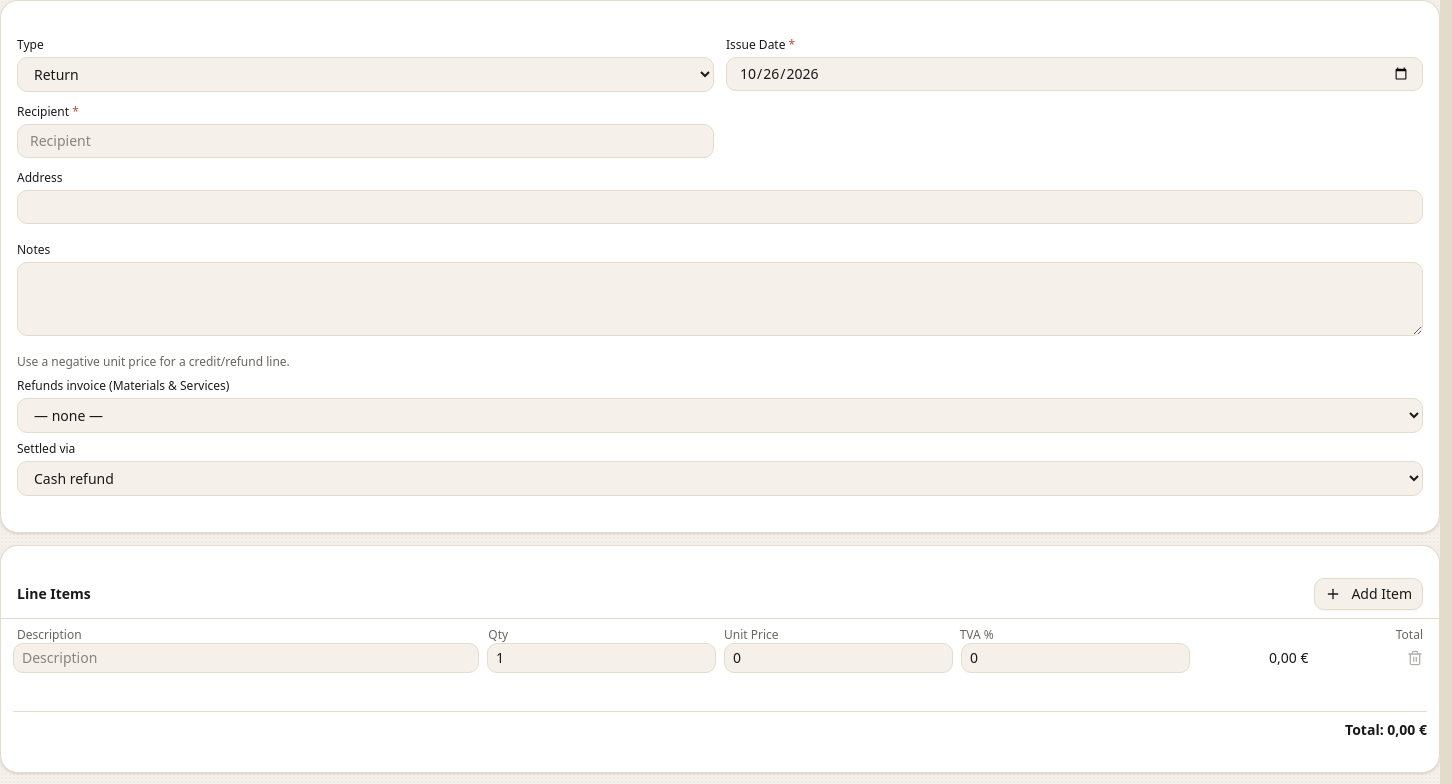
it: InvoiceForm — settled via / applied-to-invoice picker visibility › reveals the applied-to picker when avoir is selected
Select "Avoir (supplier credit)" in the dropdown with test id "settled-via-select": {"x": 720, "y": 478} [17,461,1423,496]
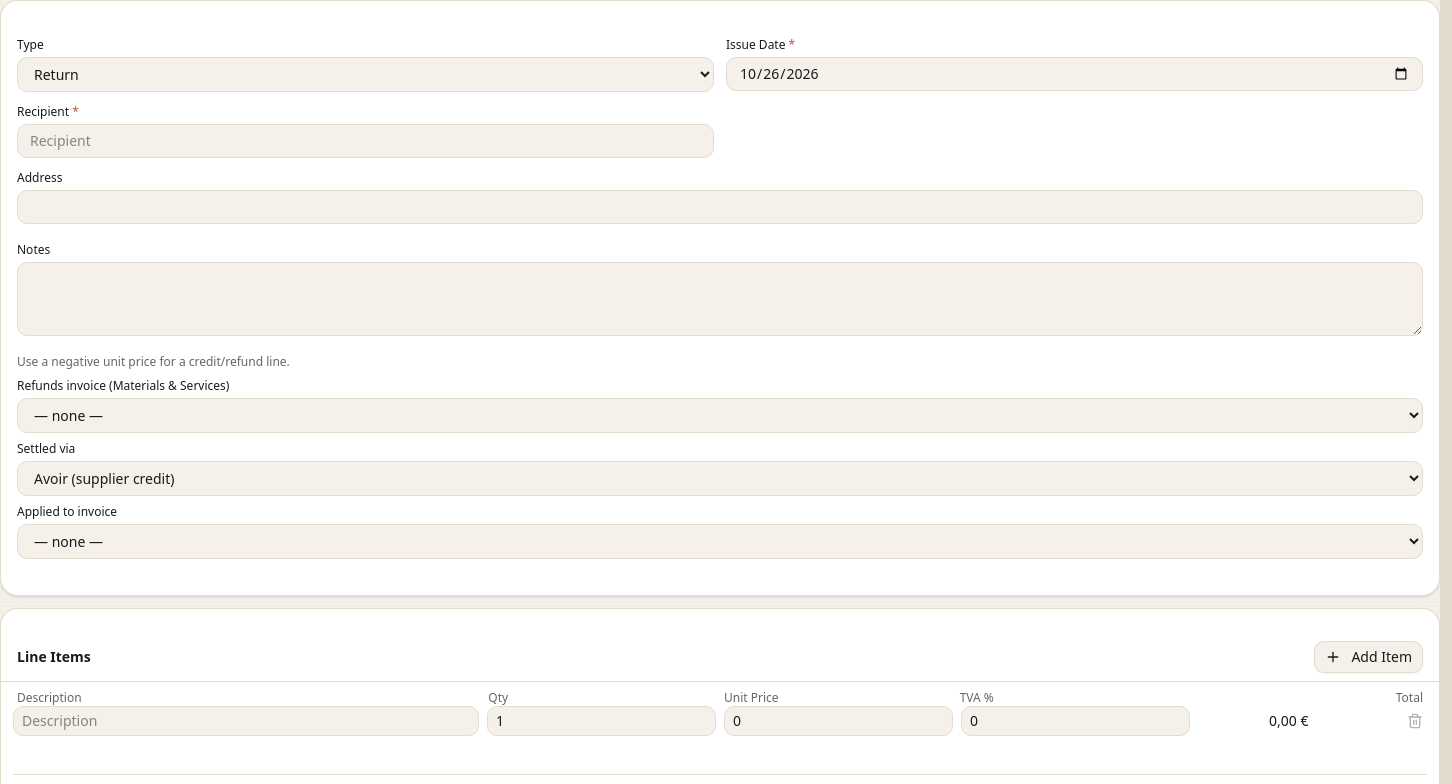
Result: the dropdown with test id "applied-to-invoice-select" is shown at [17,524,1423,559]
